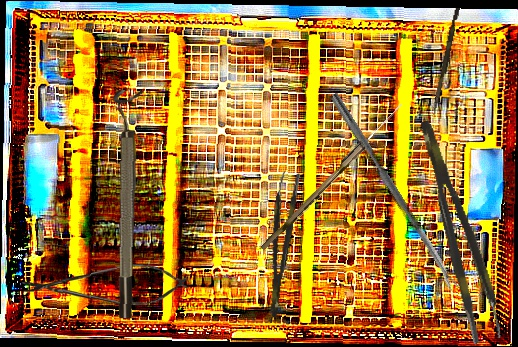Fixation Ring: (105, 89, 144, 319)
Micro Scissor: (21, 262, 190, 309)
Pusher: (432, 6, 460, 117)
Surgical Spoon: (328, 92, 459, 292), (260, 100, 405, 254)
Tissue Forceps: (416, 115, 506, 345), (257, 170, 302, 318)
